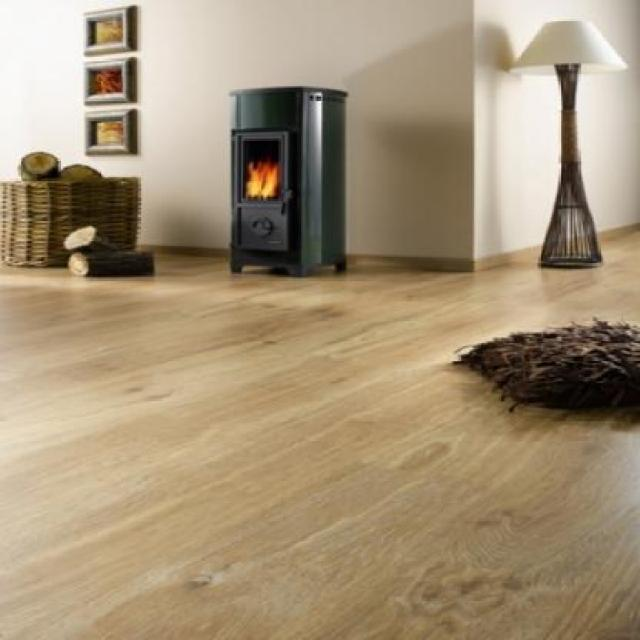Fire: (241, 154, 281, 200)
